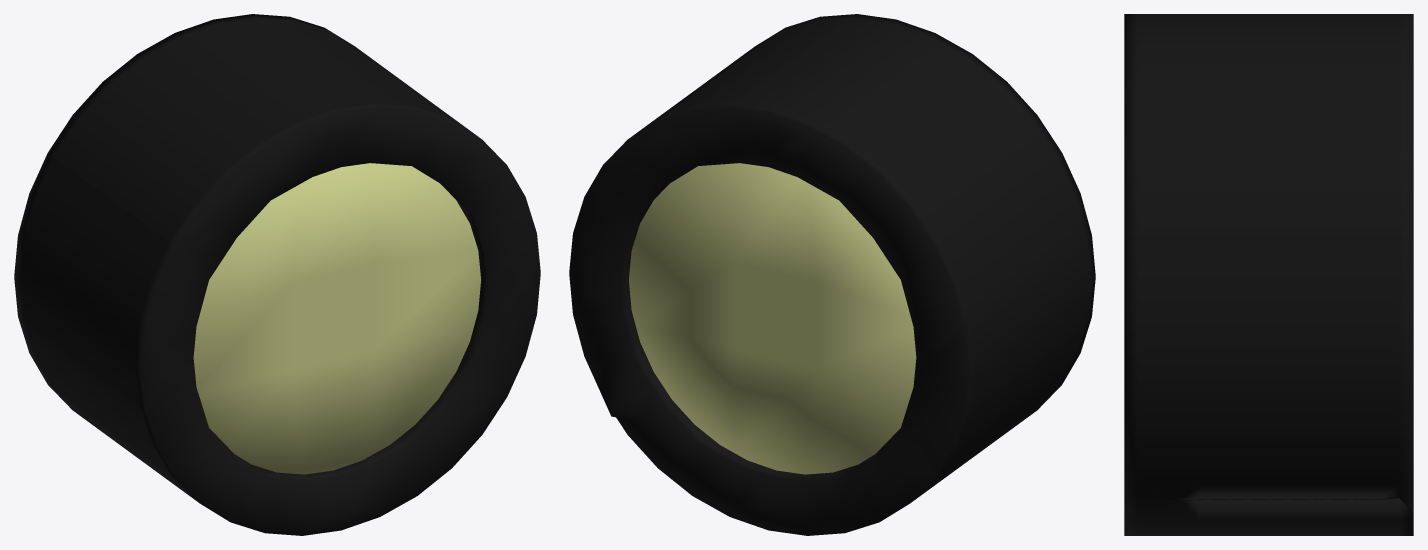
File: wheel.fbx
3 views of the same model, side by side, from view 1: azimuth 30°, elevation 25°; view 2: azimuth 150°, elevation 25°; view 3: azimuth 270°, elevation 25° (orthographic). The views are drawn at different scales.
Parts seen in each view (by area): view 1: Cylinder, Cylinder_001; view 2: Cylinder, Cylinder_001; view 3: Cylinder.
Boxes of the visible parts, <box> form: Cylinder: <box>14,14,540,535</box>; Cylinder_001: <box>193,163,480,474</box>; Cylinder: <box>569,14,1095,535</box>; Cylinder_001: <box>629,163,916,474</box>; Cylinder: <box>1124,14,1413,535</box>.
Size of the model in its own units: 0.8455 by 0.8455 by 0.4682.
